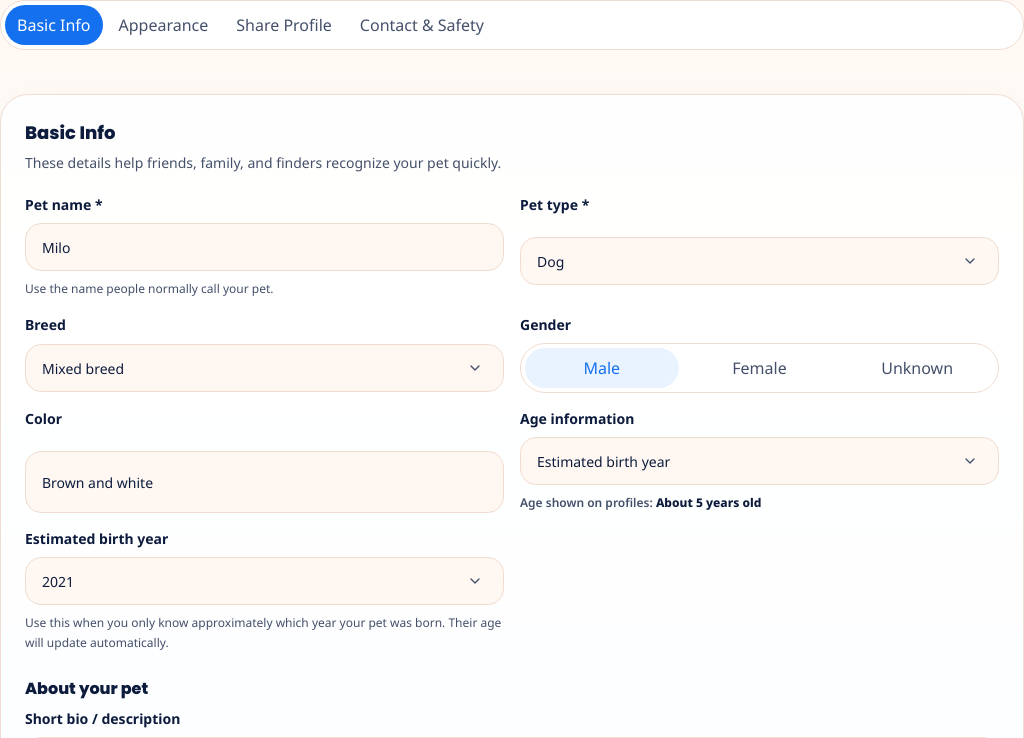
PetProfileForm Sharing and Contact mobile UX › loads an existing useOwnerDefaults=false pet without mutating it
Click the tab "Contact & Safety". click: x=422, y=25
box: [348,5,496,45]
(page scrolled)
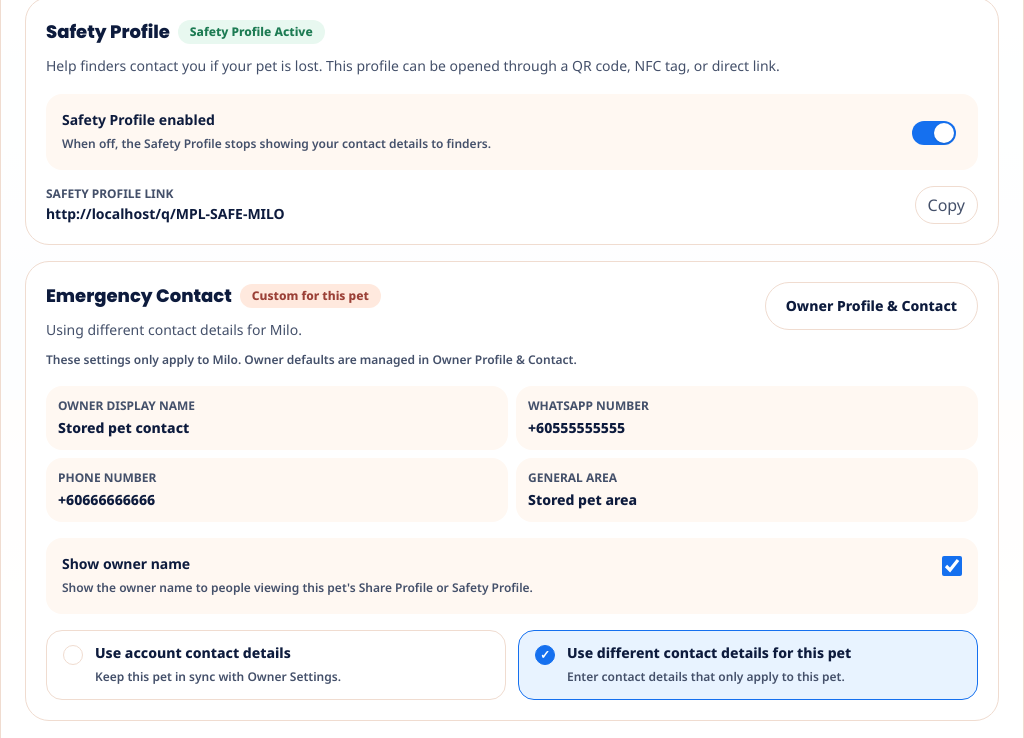
Check: the text "Stored pet contact" is shown, box [58,418,189,437]
